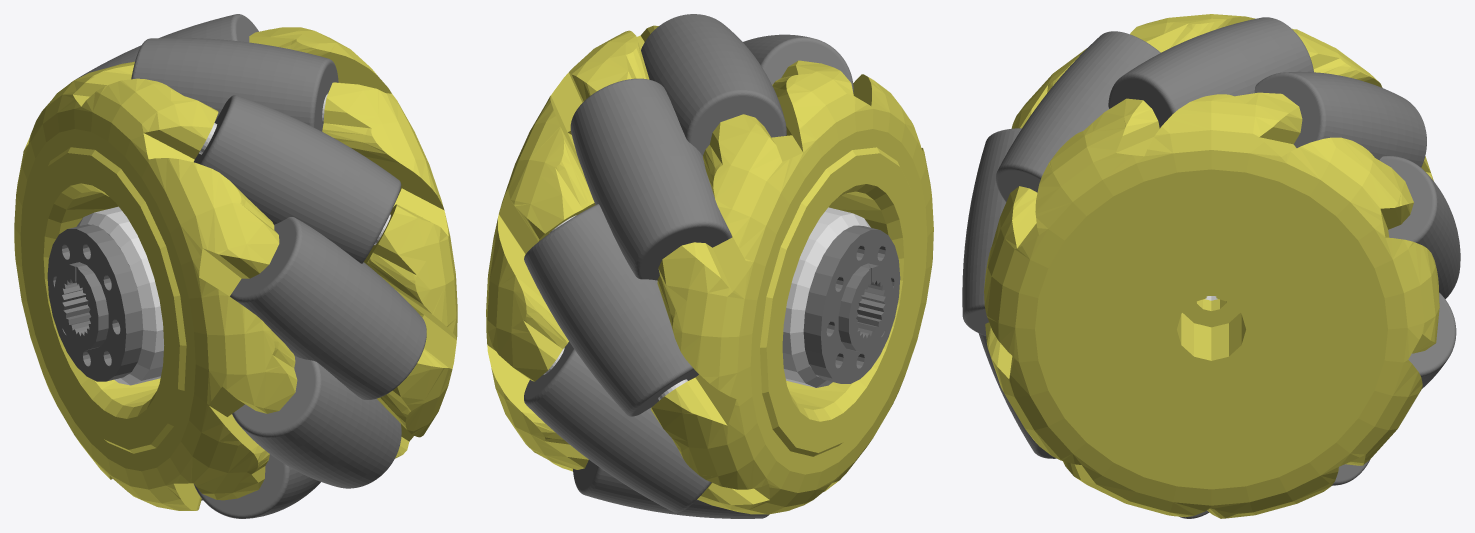
Rendered from mechanum_phi48-6.glb.
3 views of the same model, side by side, from view 1: azimuth 30°, elevation 25°; view 2: azimuth 150°, elevation 25°; view 3: azimuth 270°, elevation 25° (orthographic).
Parts seen in each view (by area): view 1: mechanum_phi48-6; view 2: mechanum_phi48-6; view 3: mechanum_phi48-6.
Boxes of the visible parts, x1=… form: mechanum_phi48-6: x1=14, y1=14, x2=457, y2=518; mechanum_phi48-6: x1=486, y1=14, x2=933, y2=518; mechanum_phi48-6: x1=962, y1=14, x2=1460, y2=518.
Size of the model in its own units: 0.0337 by 0.0502 by 0.0502.
